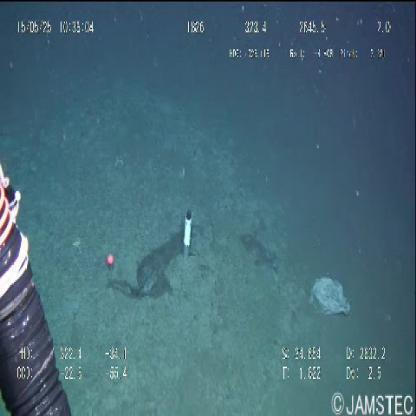Rác: (311, 278, 351, 318)
